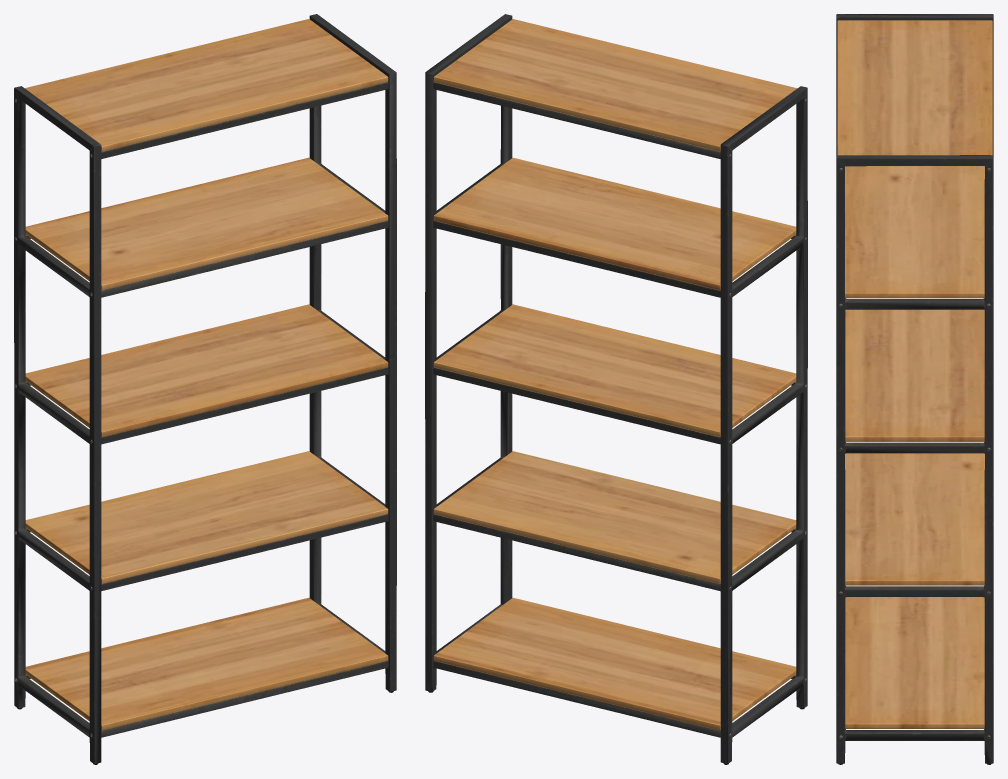
File: shelves.glb
3 renders of one model, left to right at view 1: azimuth 30°, elevation 25°; view 2: azimuth 150°, elevation 25°; view 3: azimuth 270°, elevation 25°, orthographic. The views are drawn at different scales.
Visible parts, largest first — view 1: steel_frame_shelves_01; view 2: steel_frame_shelves_01; view 3: steel_frame_shelves_01.
Part boxes in pixels (x1,y1,x2,y2): steel_frame_shelves_01: [14, 14, 396, 764]; steel_frame_shelves_01: [425, 14, 807, 764]; steel_frame_shelves_01: [836, 14, 993, 764].
Bounding box in the file's own units: 0.9228 × 1.8 × 0.4221.
Materials: 1 (1 with a texture image).
